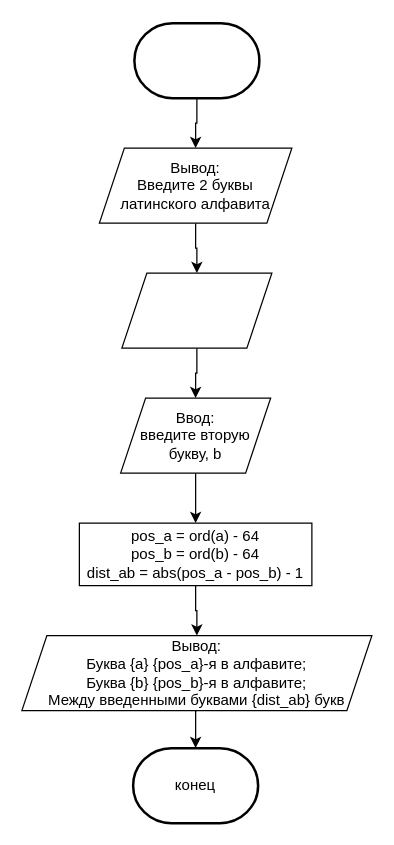
The diagram is 394 pixels wide and 845 high, and some of its shapes have lost their labels. Here are the shapes that lost their labels. From the top down, the box of each, then its label:
(132, 21, 260, 99): начало
(121, 272, 272, 348): Ввод: введите первую букву, a
